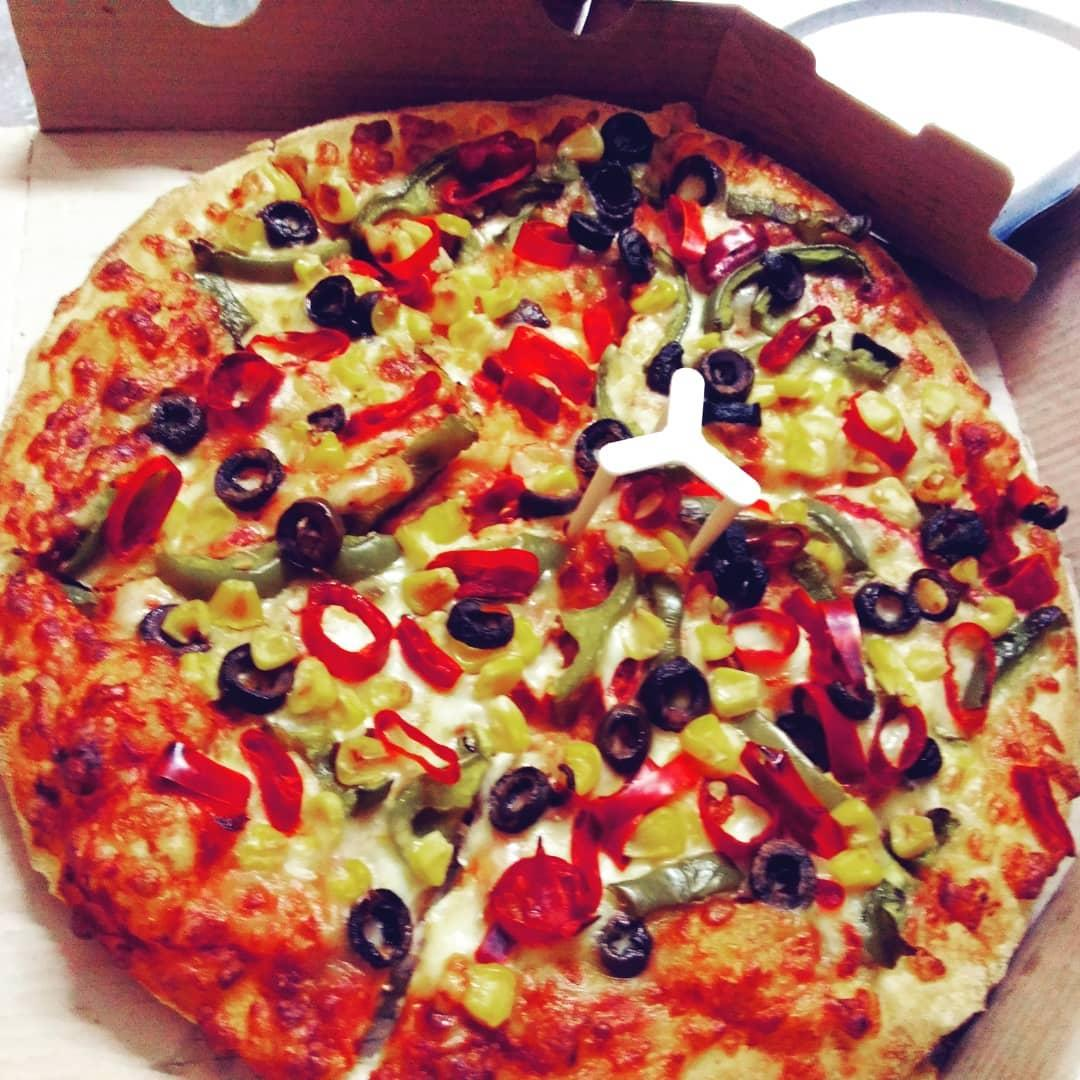Corn: (391, 493, 479, 577), (324, 325, 399, 419), (287, 418, 371, 499), (453, 953, 524, 1034), (692, 661, 776, 729), (555, 726, 624, 806), (513, 433, 586, 507), (794, 522, 860, 603), (199, 570, 276, 637), (135, 593, 224, 650), (610, 804, 699, 861), (687, 610, 760, 679), (808, 841, 888, 903), (864, 638, 931, 712), (616, 532, 701, 589), (508, 262, 586, 324), (673, 705, 742, 775), (434, 307, 496, 379), (759, 480, 839, 534), (281, 649, 349, 712), (352, 670, 436, 720), (770, 427, 838, 488), (324, 686, 389, 748), (225, 819, 293, 878), (826, 794, 898, 848), (375, 299, 444, 354), (402, 829, 472, 883), (485, 690, 537, 760), (307, 851, 378, 902), (906, 367, 965, 428), (623, 264, 676, 329), (769, 357, 840, 405), (277, 356, 329, 421), (885, 804, 941, 864), (231, 162, 309, 205), (299, 785, 352, 847), (846, 379, 902, 437), (424, 266, 475, 328), (308, 165, 363, 222), (464, 650, 529, 697), (212, 204, 277, 251), (902, 638, 965, 684), (980, 585, 1024, 647), (336, 265, 400, 306), (466, 262, 514, 315), (902, 571, 951, 621), (269, 289, 314, 340), (905, 458, 946, 512), (556, 127, 611, 167), (253, 626, 303, 666), (947, 550, 987, 596), (283, 246, 324, 288)
Olives: (954, 595, 1076, 674), (587, 697, 667, 794), (338, 881, 417, 978), (766, 682, 843, 781), (634, 651, 727, 732), (269, 495, 350, 586), (581, 899, 667, 981), (468, 758, 556, 837), (296, 272, 388, 344), (208, 639, 299, 711), (742, 831, 818, 914), (909, 499, 993, 565), (647, 147, 728, 213), (703, 519, 769, 600), (565, 154, 634, 231), (216, 442, 285, 515), (133, 387, 209, 453), (129, 596, 212, 656), (256, 185, 326, 252), (673, 337, 753, 392), (588, 101, 661, 161), (849, 576, 927, 631), (565, 405, 631, 469), (741, 245, 812, 304), (824, 673, 886, 729), (698, 388, 765, 435), (1009, 492, 1074, 537), (626, 326, 679, 380), (560, 203, 614, 254), (895, 733, 946, 784), (610, 220, 650, 285), (853, 327, 903, 376), (297, 396, 353, 433)
Peppers: (791, 587, 925, 800), (936, 428, 1060, 604), (357, 759, 509, 872), (727, 296, 895, 393), (287, 577, 412, 688), (139, 523, 297, 609), (478, 319, 592, 437), (230, 714, 329, 848), (555, 532, 634, 688), (266, 655, 421, 734), (331, 417, 501, 489), (712, 239, 882, 311), (333, 703, 467, 791), (780, 492, 888, 601), (954, 603, 1080, 695), (603, 845, 752, 920), (705, 592, 830, 681), (923, 622, 999, 746), (146, 737, 255, 823), (162, 228, 357, 275), (97, 457, 178, 568), (589, 454, 698, 536), (1003, 737, 1077, 857), (412, 542, 547, 607), (834, 388, 931, 476), (727, 185, 878, 240), (522, 522, 623, 601), (349, 208, 467, 274), (380, 605, 472, 689), (330, 368, 443, 433), (234, 312, 367, 367), (185, 355, 280, 429), (303, 523, 415, 578), (504, 215, 584, 273), (658, 188, 707, 264), (569, 285, 626, 350)
Pizza: (0, 86, 1080, 1080)
